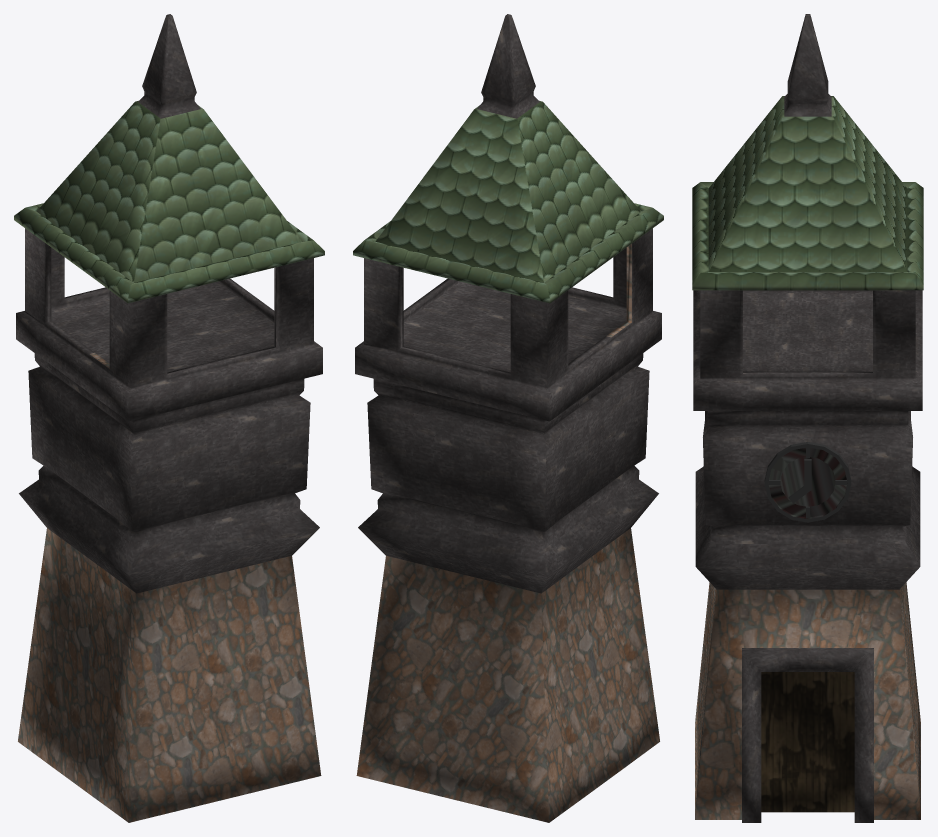
The model's file is Tower.fbx.
The picture shows the model from 3 angles, left to right: view 1: azimuth 30°, elevation 25°; view 2: azimuth 150°, elevation 25°; view 3: azimuth 270°, elevation 25°; orthographic projection.
Parts seen in each view (by area): view 1: Circle; view 2: Circle; view 3: Circle.
Part boxes in pixels (bbox=[...]): Circle: bbox=[14, 14, 324, 822]; Circle: bbox=[353, 14, 663, 822]; Circle: bbox=[692, 14, 923, 822].
Size of the model in its own units: 1045 by 3693 by 1024.
